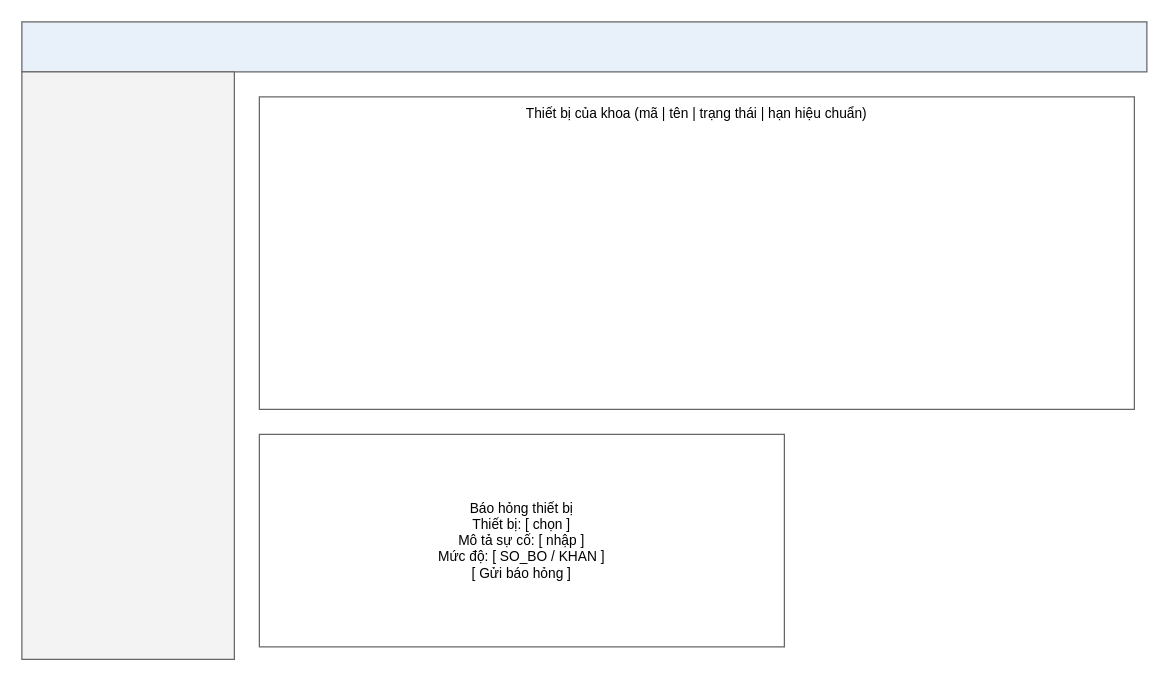
This 1169x681 diagram has some shape labels left out. The centre of each missing label's shape, as x and y in pixels:
MedEquip — Đầu mối khoa: pixel 584 46
Thiết bị khoa Phiếu của khoa: pixel 127 365
